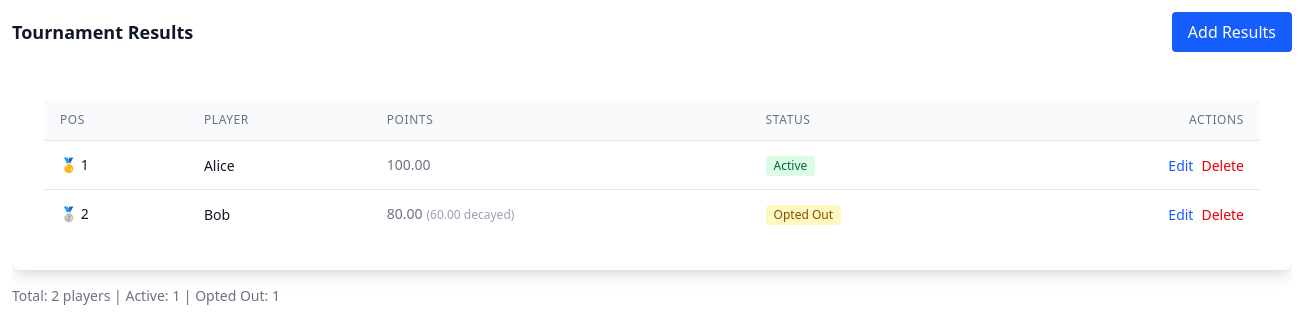
Test: TournamentResultsManager › shows inline edit form when Edit clicked
Expected: the link "Alice" is shown, [204,156,235,175]
What coordinates should you click on to do the following:
click the button "Edit" in the row of "Alice"
I would click on:
 (1181, 166)
Its box is [1168,156,1194,176].
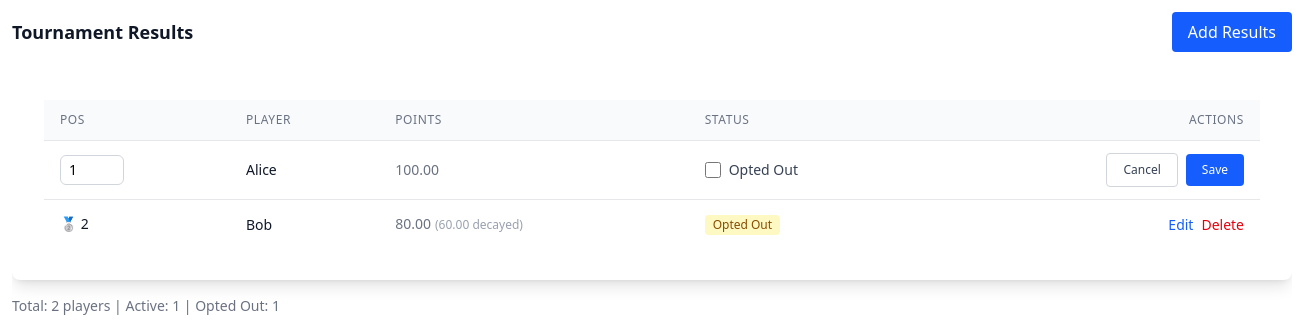
Now the number field showing "1" is shown, box [60,155,124,185]
Now the button "Save" is shown, box [1186,154,1244,186]
